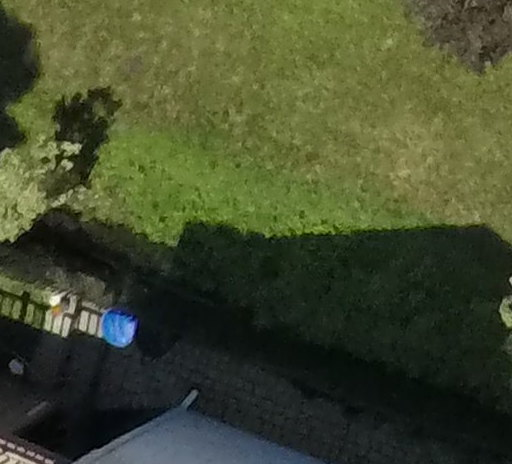container: (97, 311, 143, 359)
